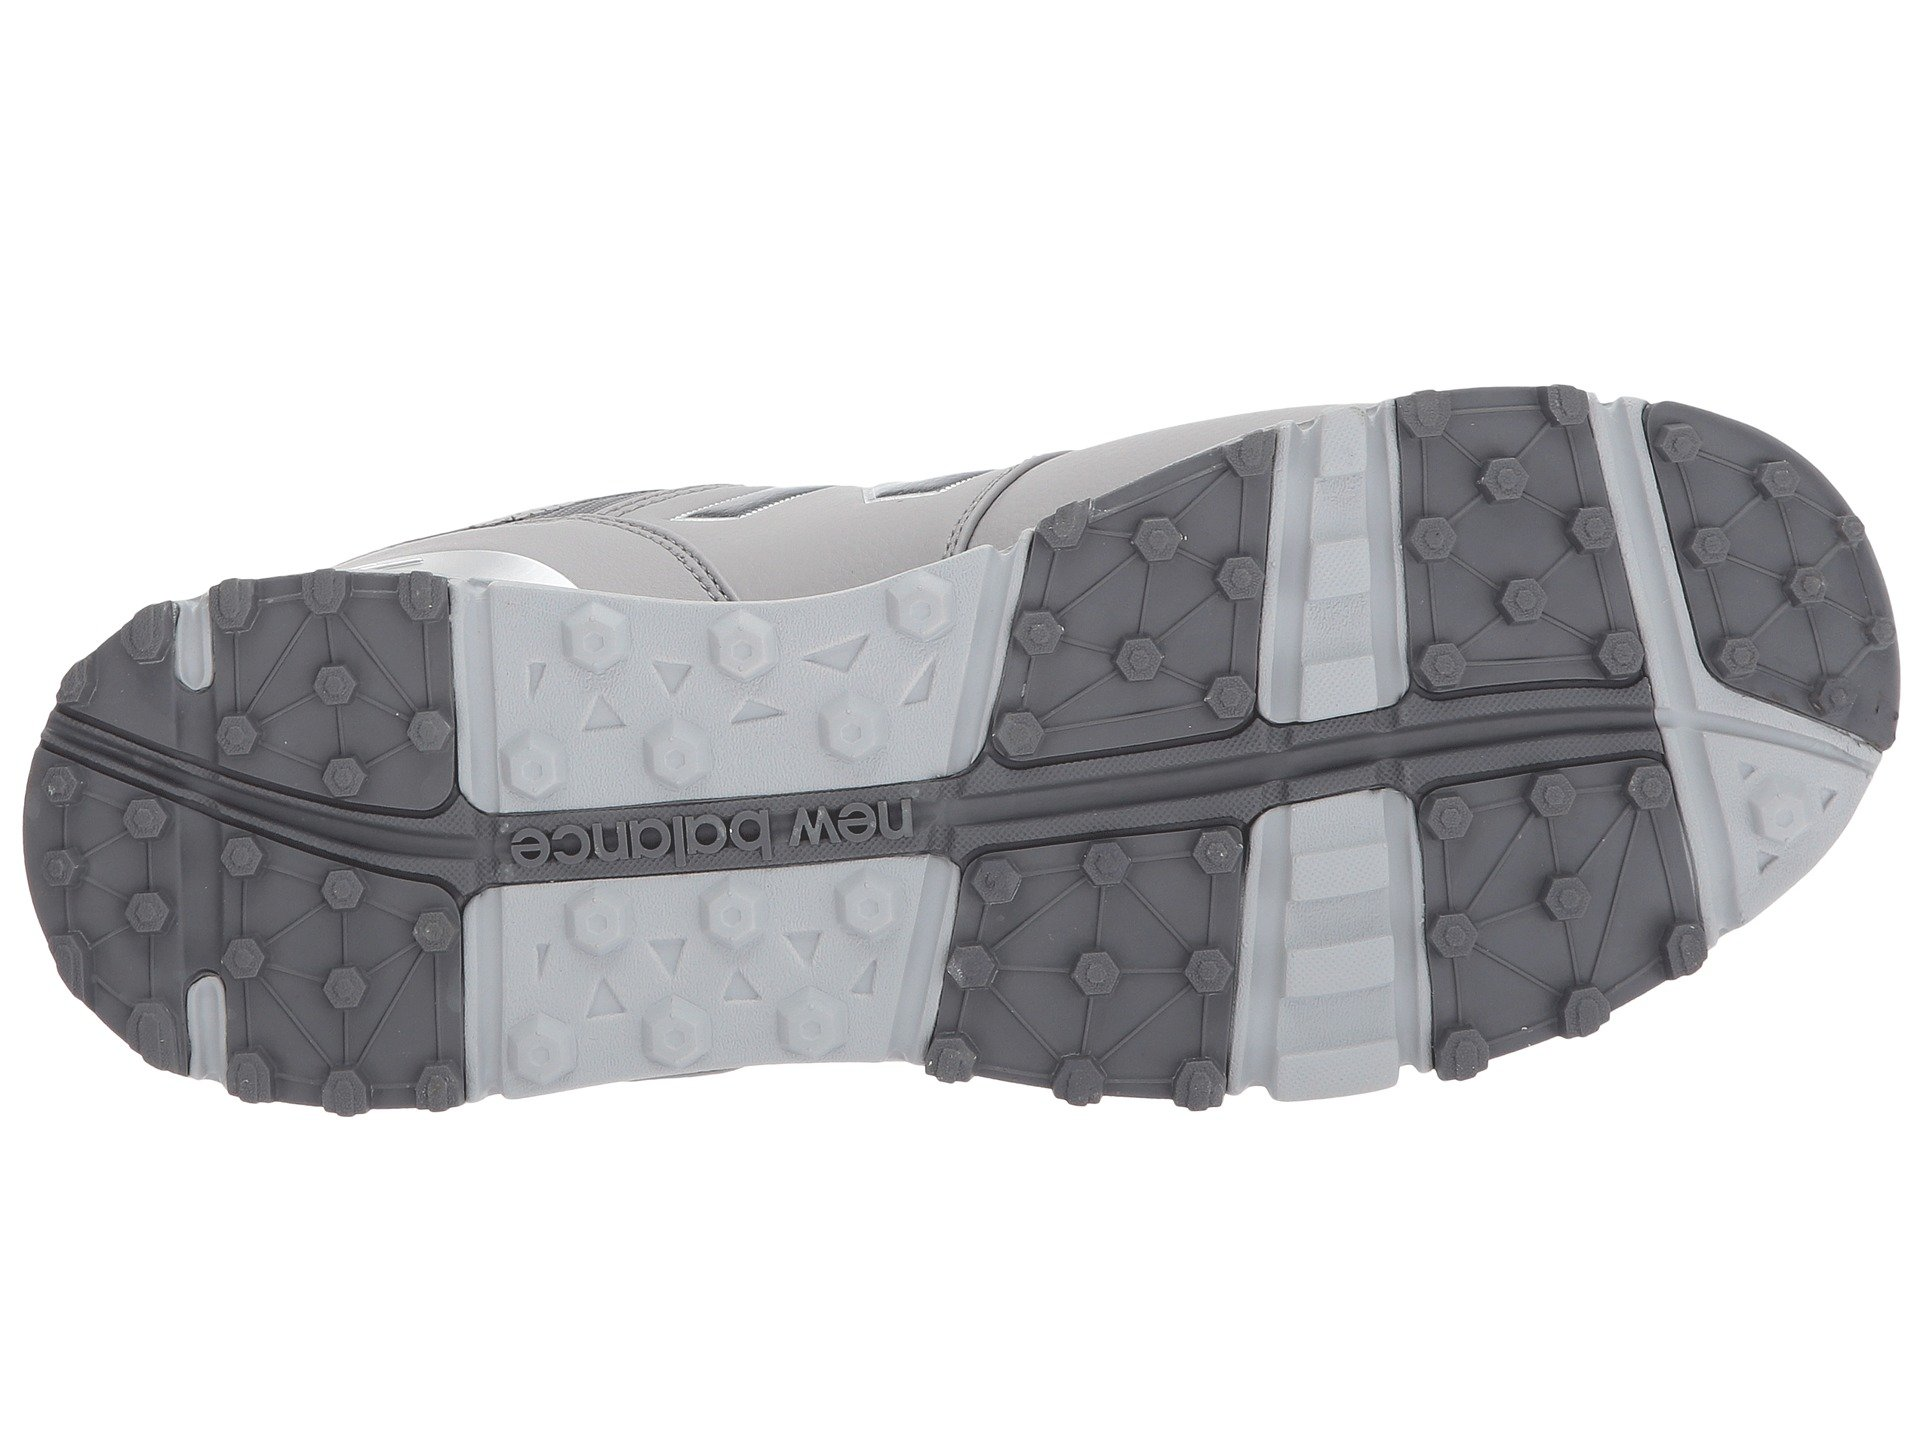circle: (661, 790, 763, 917)
polygon: (1238, 545, 1503, 856), (875, 575, 1184, 794), (1640, 422, 1863, 650), (1686, 708, 1884, 924), (528, 596, 729, 793), (287, 634, 463, 832), (561, 951, 717, 1092)
quad: (1238, 545, 1503, 856)
text: (482, 781, 647, 921), (763, 771, 925, 914), (661, 790, 763, 917)
triangle: (875, 575, 1184, 794), (1640, 422, 1863, 650), (1686, 708, 1884, 924), (528, 596, 729, 793), (287, 634, 463, 832), (561, 951, 717, 1092)
